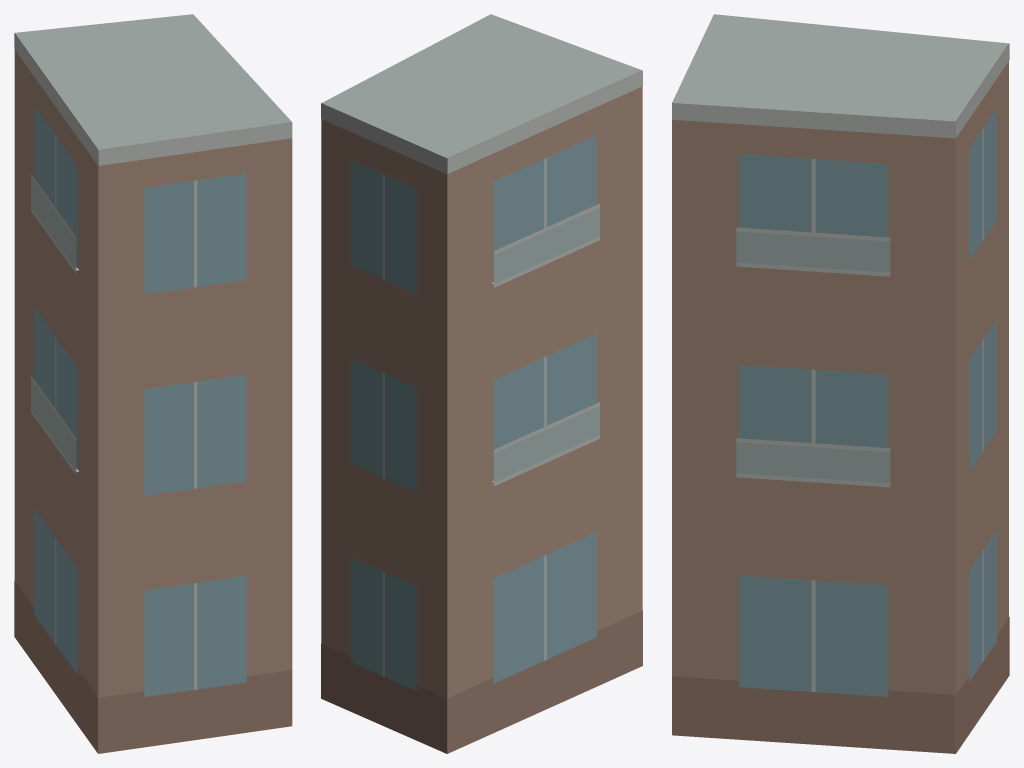
Rendered from survey-upis-32470610.glb.
3 renders of one model, left to right at view 1: azimuth 30°, elevation 25°; view 2: azimuth 150°, elevation 25°; view 3: azimuth 270°, elevation 25°, orthographic. The views are drawn at different scales.
Visible parts, largest first — view 1: survey-upis-32470610.tmp; view 2: survey-upis-32470610.tmp; view 3: survey-upis-32470610.tmp.
Part boxes in pixels (left/top/right/bottom): survey-upis-32470610.tmp: left=14, top=14, right=292, bottom=753; survey-upis-32470610.tmp: left=321, top=14, right=642, bottom=753; survey-upis-32470610.tmp: left=672, top=14, right=1009, bottom=753.
Bounding box in the file's own units: 3.35 × 9.15 × 4.43.
